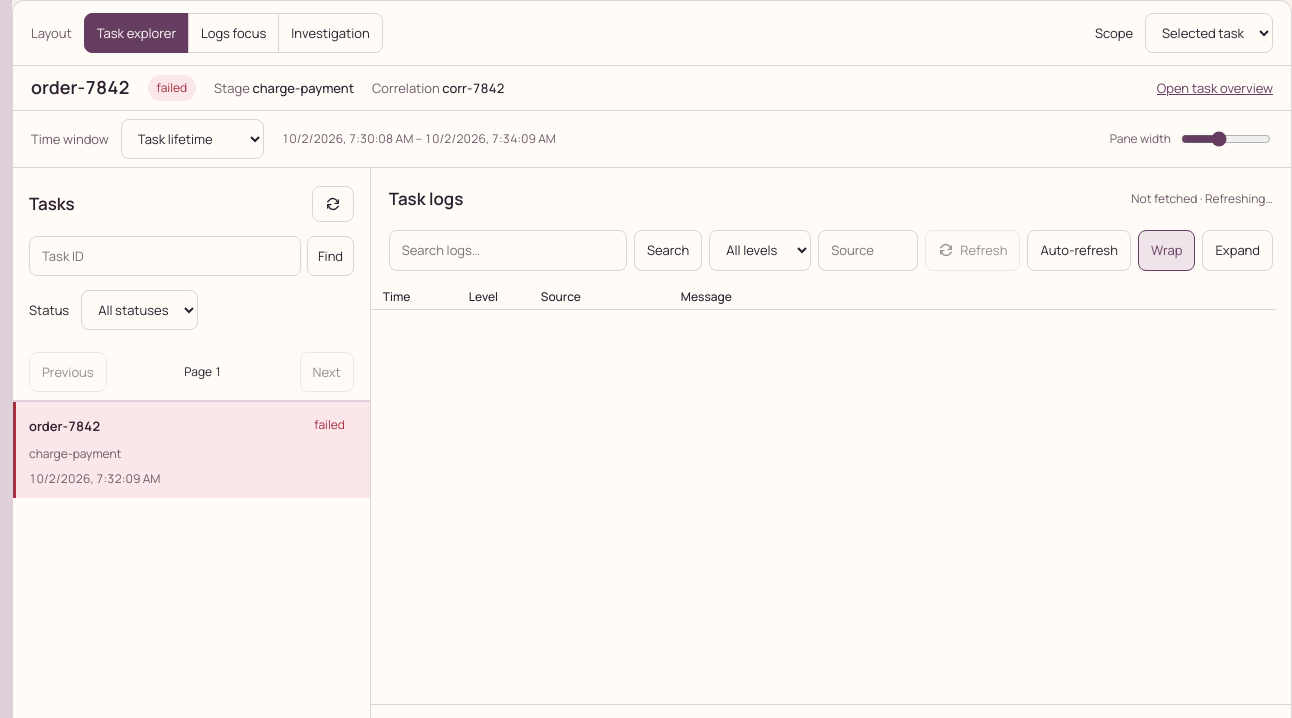
Test case: waits for slow reads before polling again
Step 1. Click the button "Auto-refresh" → (1079, 250), box [1027,230,1131,270]
Wait 15000 ms
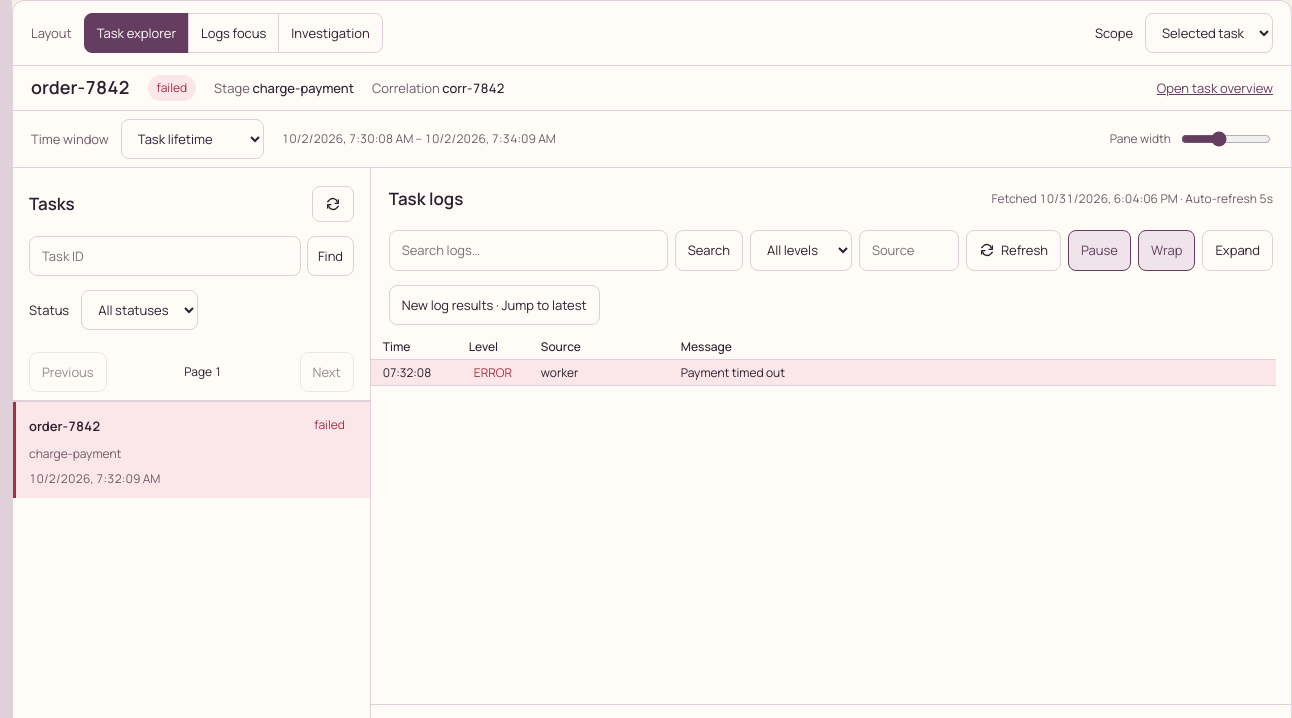
Result: the text "Slow provider evidence" is shown at [669,359,1276,386]
